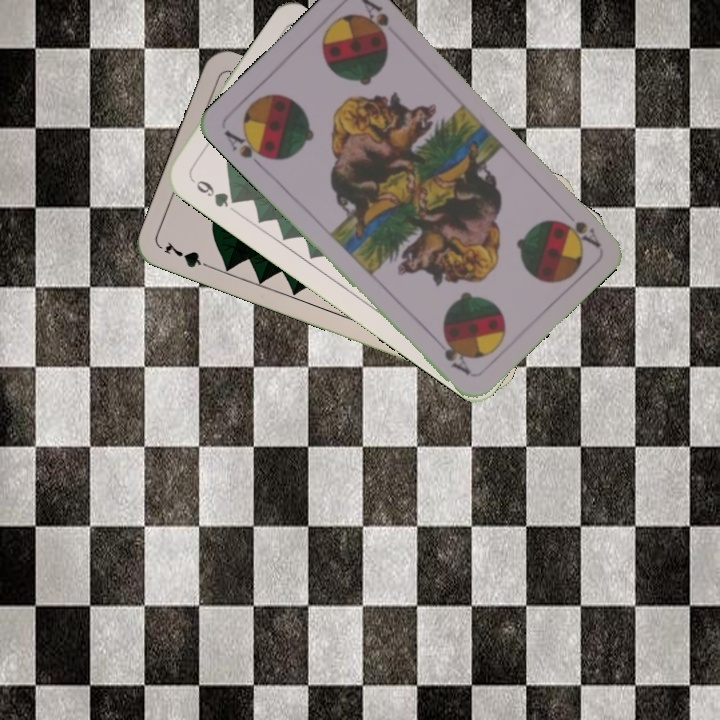G7: (160, 238, 216, 272)
G9: (186, 173, 242, 210)
SA: (219, 125, 274, 172), (559, 217, 603, 250)
